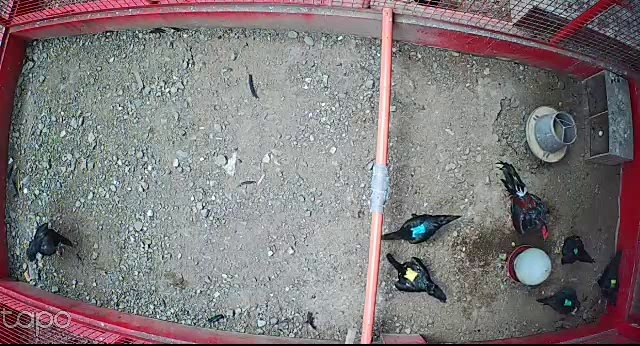Chicken: (371, 204, 459, 252), (383, 250, 448, 306), (585, 245, 630, 310), (22, 222, 76, 262), (535, 284, 588, 316), (553, 233, 597, 270)
Drinker: (501, 243, 552, 288)
Feeder: (526, 104, 579, 166)
Rooster: (491, 158, 554, 244)
Saddle_Color_Blue: (410, 221, 426, 239)
Saddle_Color_Yellow: (402, 265, 423, 285)
Saddle_Color_YellowGreen: (608, 278, 618, 292)
